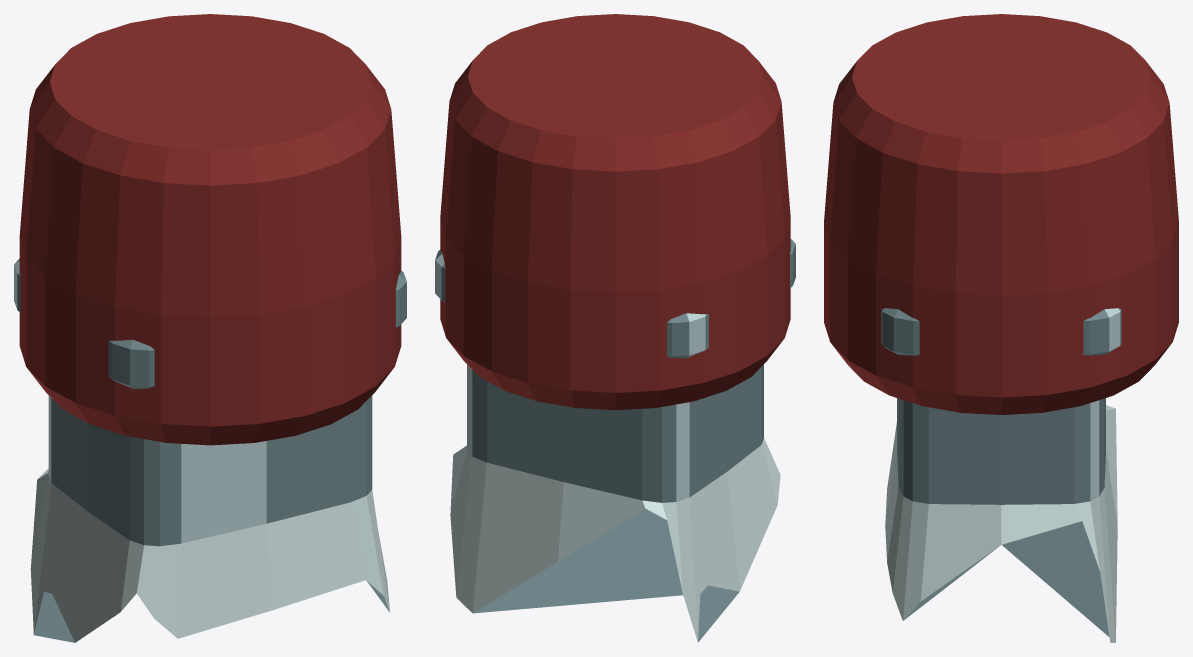
File: vodka_bottle_piece_neck.glb
3 views of the same model, side by side, from view 1: azimuth 30°, elevation 25°; view 2: azimuth 150°, elevation 25°; view 3: azimuth 270°, elevation 25° (orthographic). The views are drawn at different scales.
Visible parts, largest first — view 1: Retained original bottle closure.001, Jagged shoulder and sealed neck.001; view 2: Retained original bottle closure.001, Jagged shoulder and sealed neck.001; view 3: Retained original bottle closure.001, Jagged shoulder and sealed neck.001.
Boxes of the visible parts, x1=… form: Retained original bottle closure.001: x1=19, y1=14, x2=401, y2=445; Jagged shoulder and sealed neck.001: x1=14, y1=259, x2=406, y2=642; Retained original bottle closure.001: x1=440, y1=14, x2=790, y2=410; Jagged shoulder and sealed neck.001: x1=435, y1=239, x2=795, y2=642; Retained original bottle closure.001: x1=824, y1=14, x2=1178, y2=414; Jagged shoulder and sealed neck.001: x1=881, y1=308, x2=1121, y2=642.
Size of the model in its own units: 0.038 by 0.0618 by 0.038.
